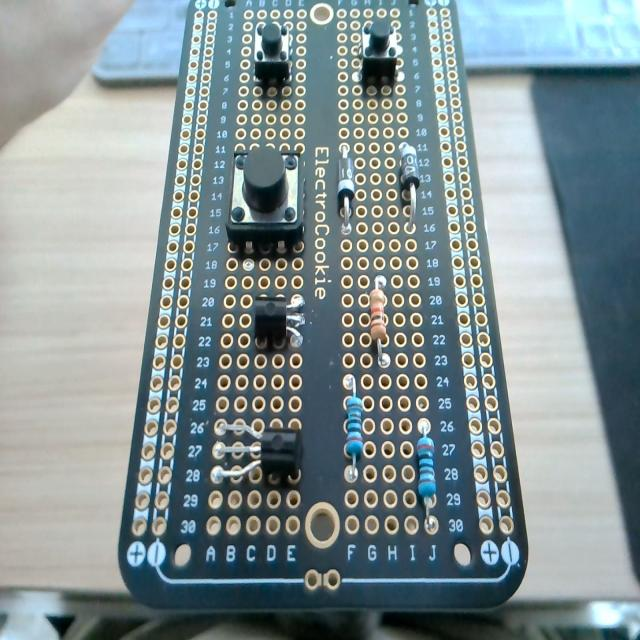diode: (398, 140, 420, 233), (337, 145, 354, 235)
resistor: (342, 385, 372, 476), (415, 420, 438, 532), (369, 272, 390, 368)
switch: (226, 144, 304, 243), (360, 18, 399, 92), (254, 19, 292, 88)
transistor: (220, 409, 306, 488), (241, 280, 308, 353)
